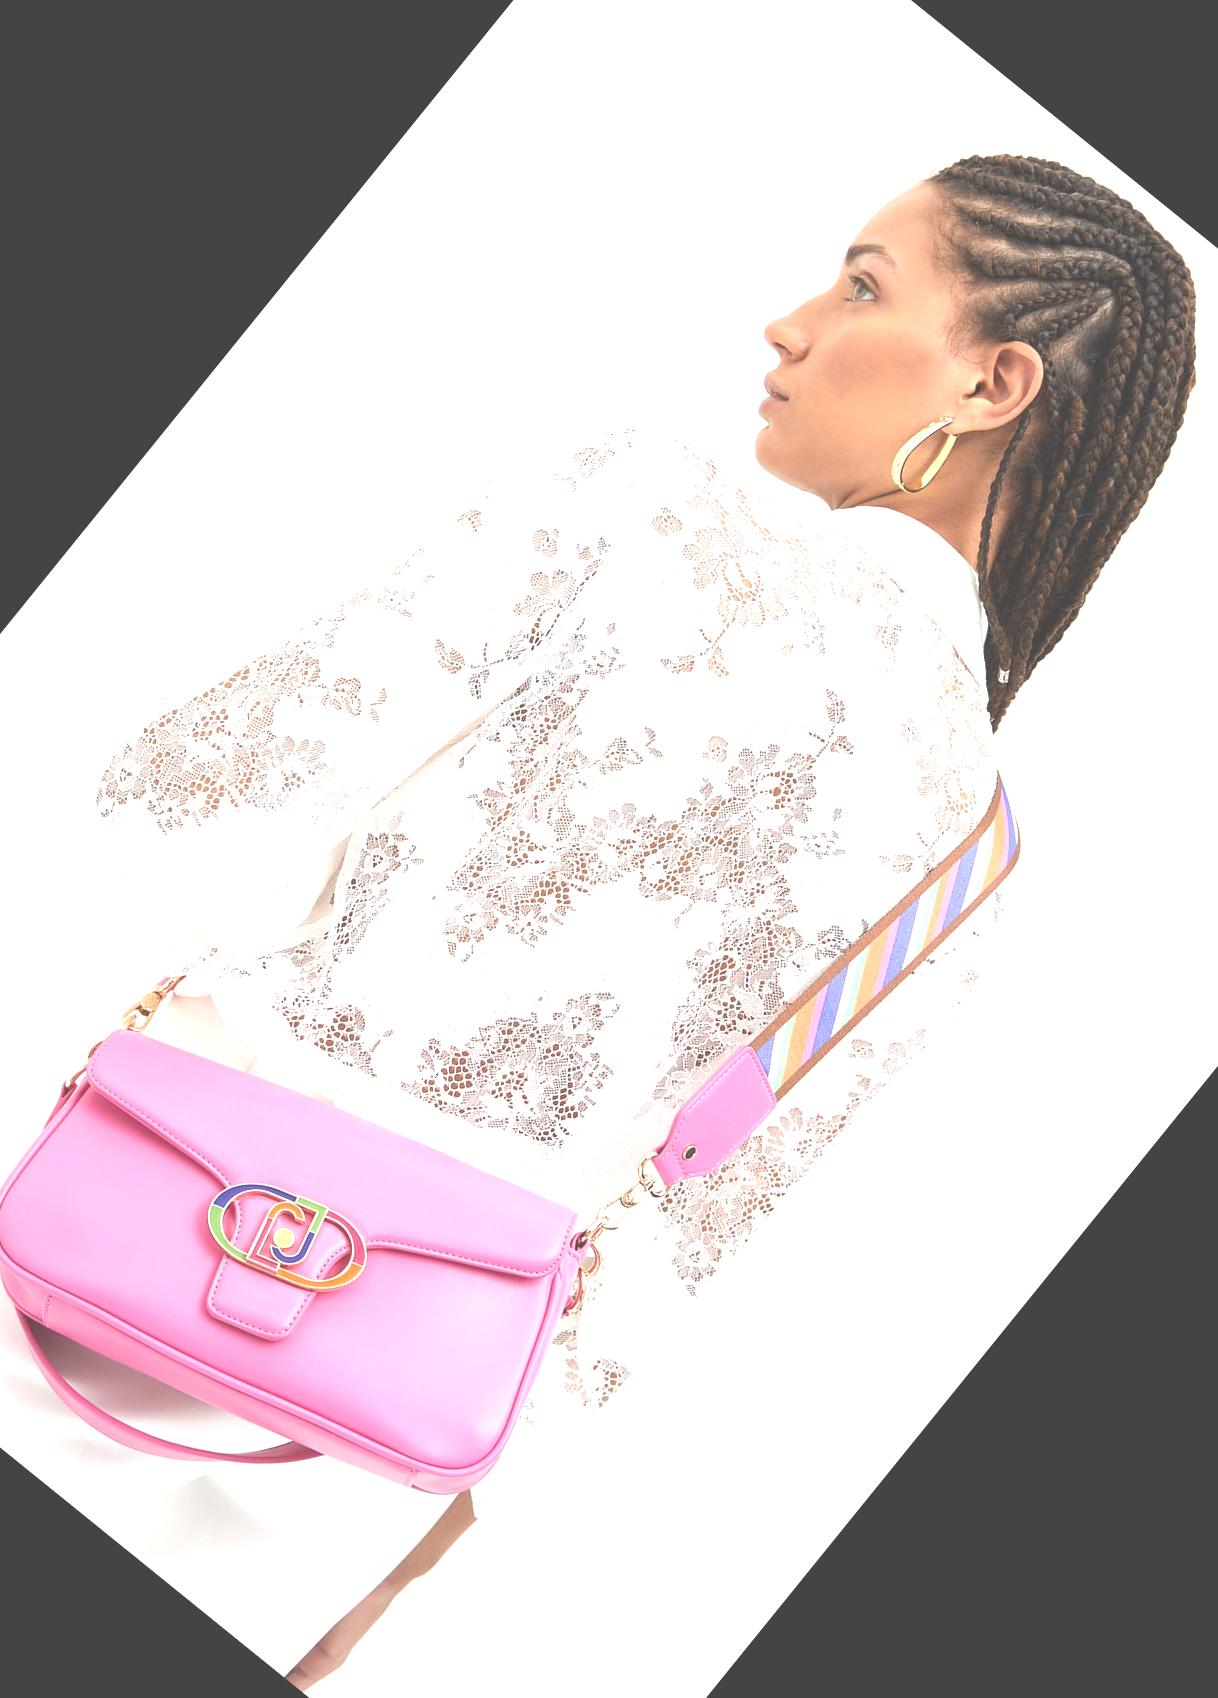LIU-JO: (235, 1180, 339, 1288)
